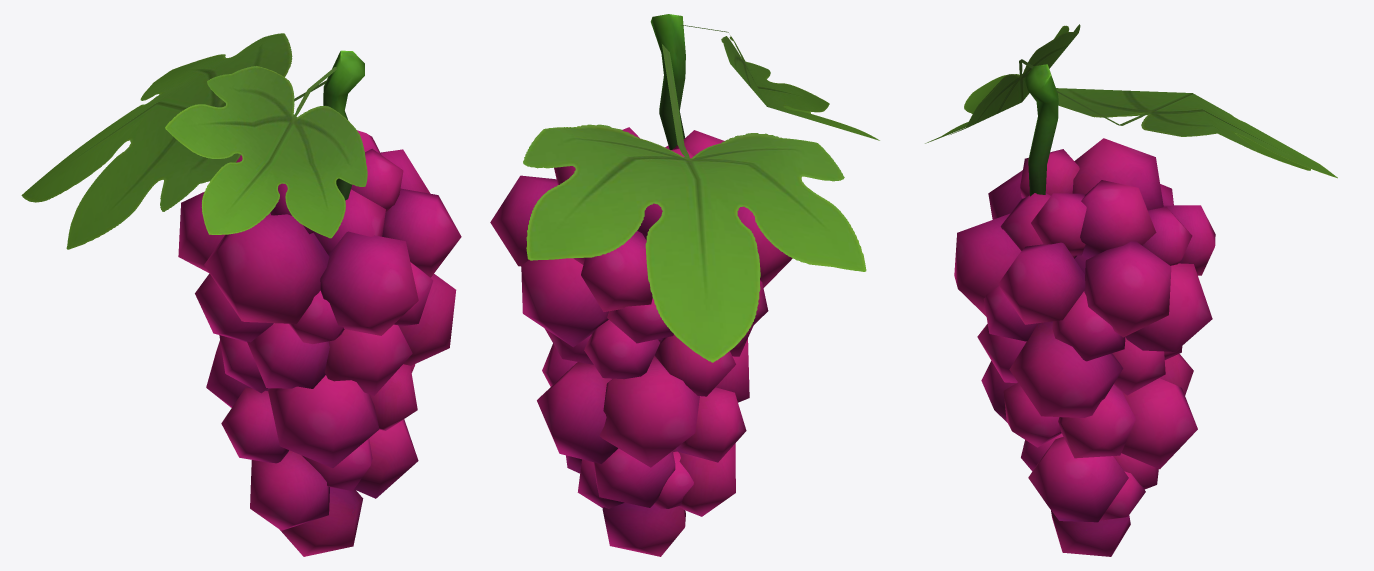
File: SE_Grapes_03b.fbx
The picture shows the model from 3 angles, left to right: view 1: azimuth 30°, elevation 25°; view 2: azimuth 150°, elevation 25°; view 3: azimuth 270°, elevation 25°; orthographic projection. The views are drawn at different scales.
Visible parts, largest first — view 1: SE_Grapes_03b; view 2: SE_Grapes_03b; view 3: SE_Grapes_03b.
Part boxes in pixels (x1,y1,x2,y2): SE_Grapes_03b: (21, 33, 461, 556); SE_Grapes_03b: (490, 14, 879, 556); SE_Grapes_03b: (925, 24, 1337, 556).
Bounding box in the file's own units: 1.7 × 2.28 × 1.85.
